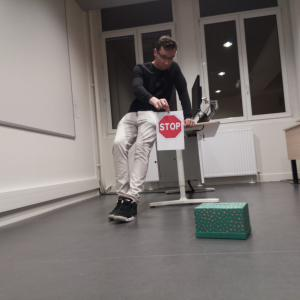stop: (158, 114, 182, 139)
